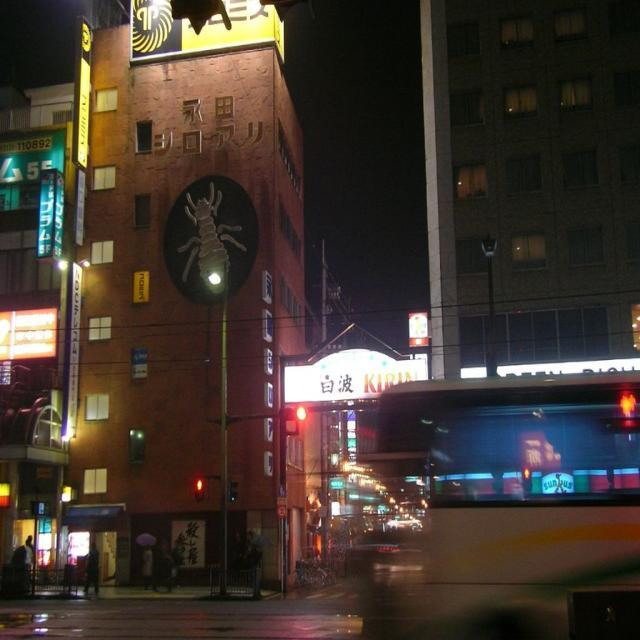traffic light: (280, 405, 306, 419), (228, 478, 239, 504), (196, 478, 207, 502)
